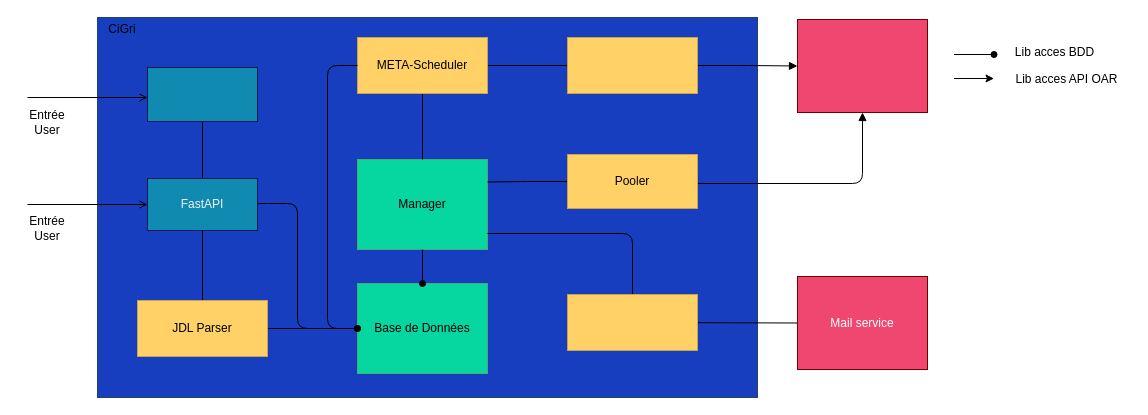
Some shapes in this 1148 by 415 pixel diagram are drawn without their labels. Each missing label, with the box of its shape:
API OAR3: (796, 18, 928, 112)
Cmd grid + RichClick: (146, 66, 258, 122)
Notifier: (566, 294, 698, 350)
Submitter: (566, 36, 698, 94)
